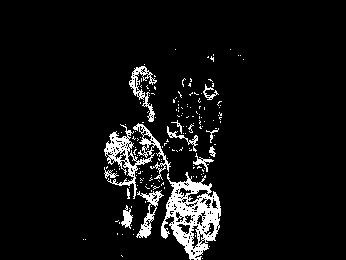person: (179, 157, 222, 260), (135, 124, 167, 244), (108, 125, 135, 233), (125, 63, 162, 123), (204, 78, 229, 159), (174, 75, 197, 147)
